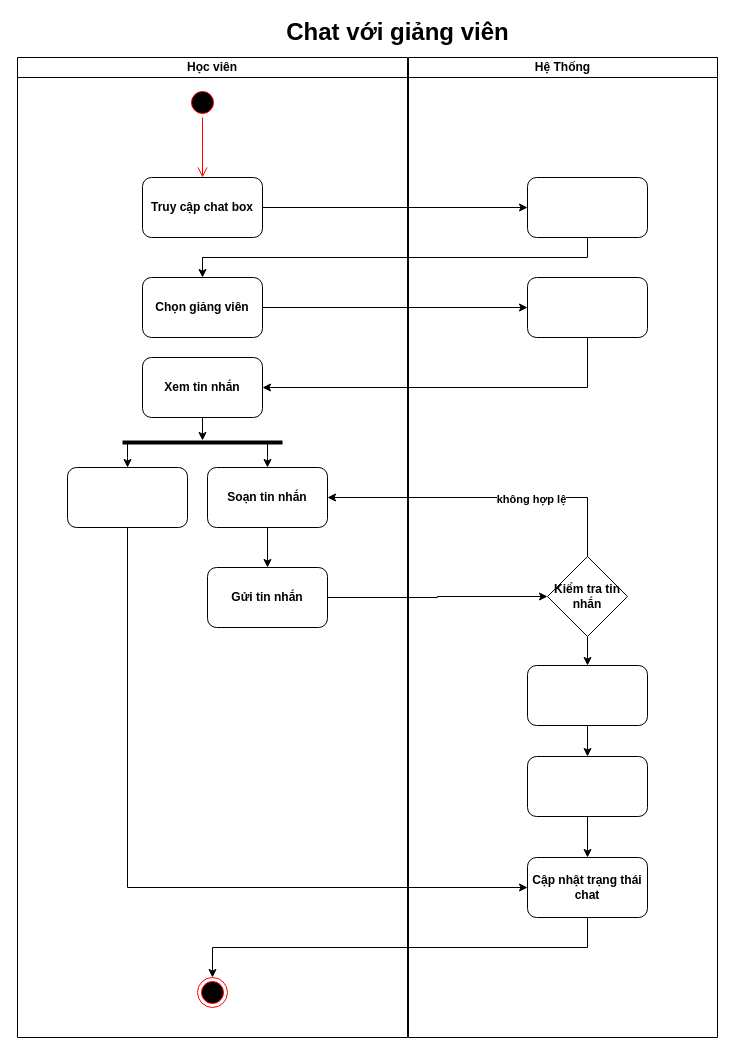
This 735x1055 diagram has some shape labels left out. The centre of each missing label's shape, as x and y in pixels:
"Gửi thông báo tin nhắn mới cho giảng viên" belongs at pixel 587 786.
"Lưu và gửi tin nhắn" belongs at pixel 587 695.
"Tải danh sách giảng viên" belongs at pixel 587 207.
"Tải lịch sử chat" belongs at pixel 587 307.
"Đánh dấu đã đọc" belongs at pixel 127 497.
